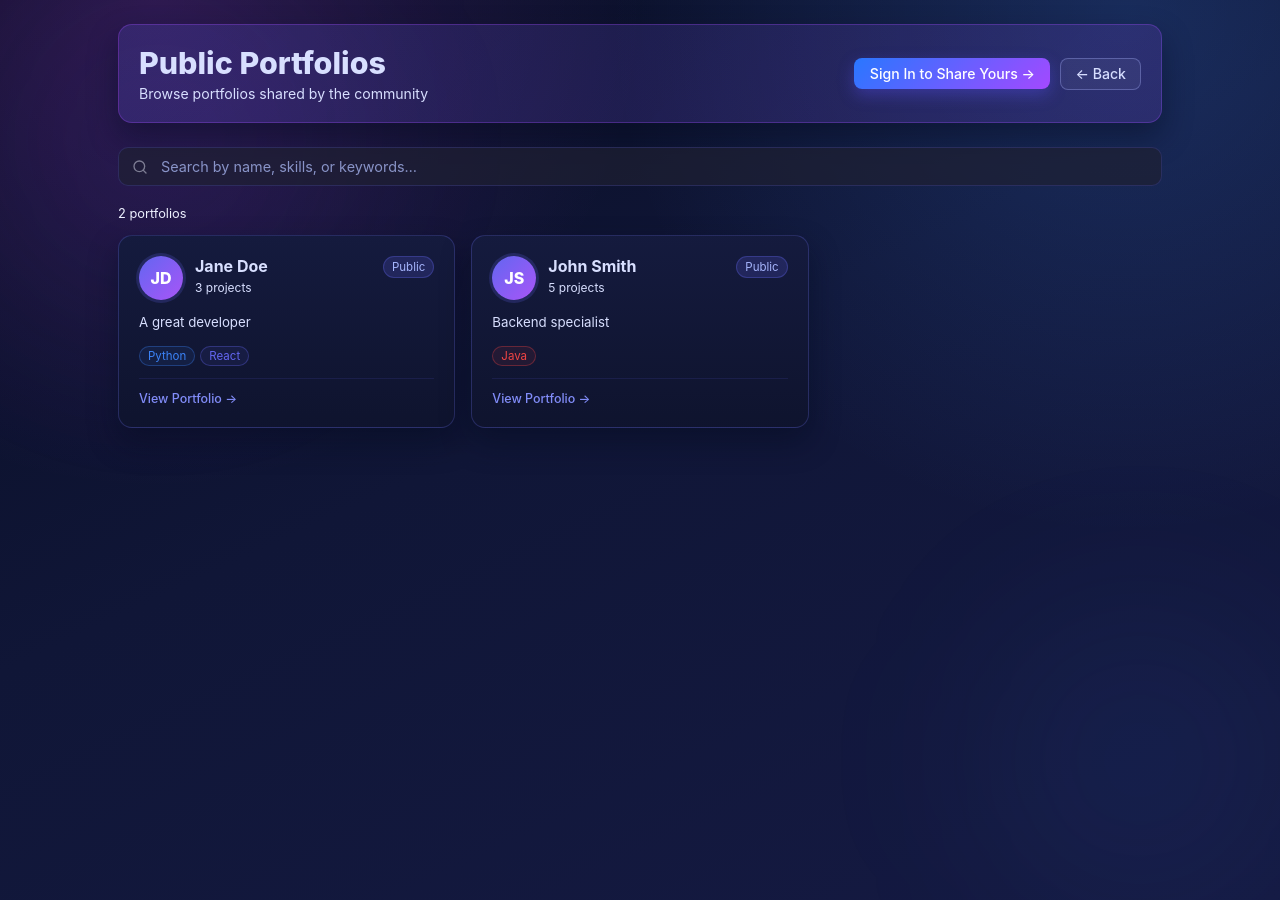
Test case: PublicPortfoliosList - search › filters portfolios by search text
This screenshot has width=1280, height=900.
Expected: the heading "Jane Doe" is shown, [195,256,268,276]
Type "Jane" into the field with placeholder "Search by name, skills, or keywords…" at (640, 167), box [118,148,1162,186]
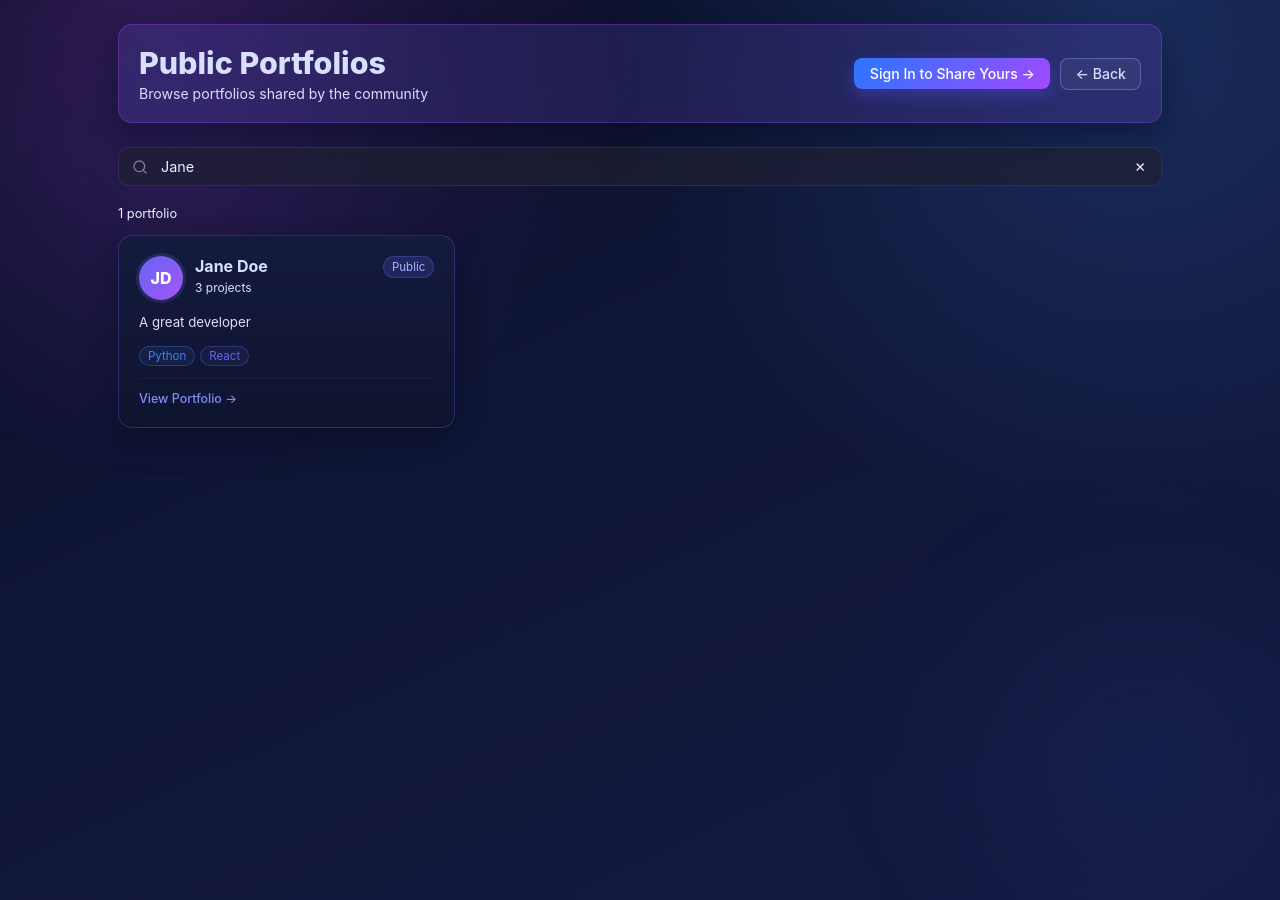
Expected: the heading "Jane Doe" is shown, [195,256,268,276]
Now the button "John Smith" is gone
